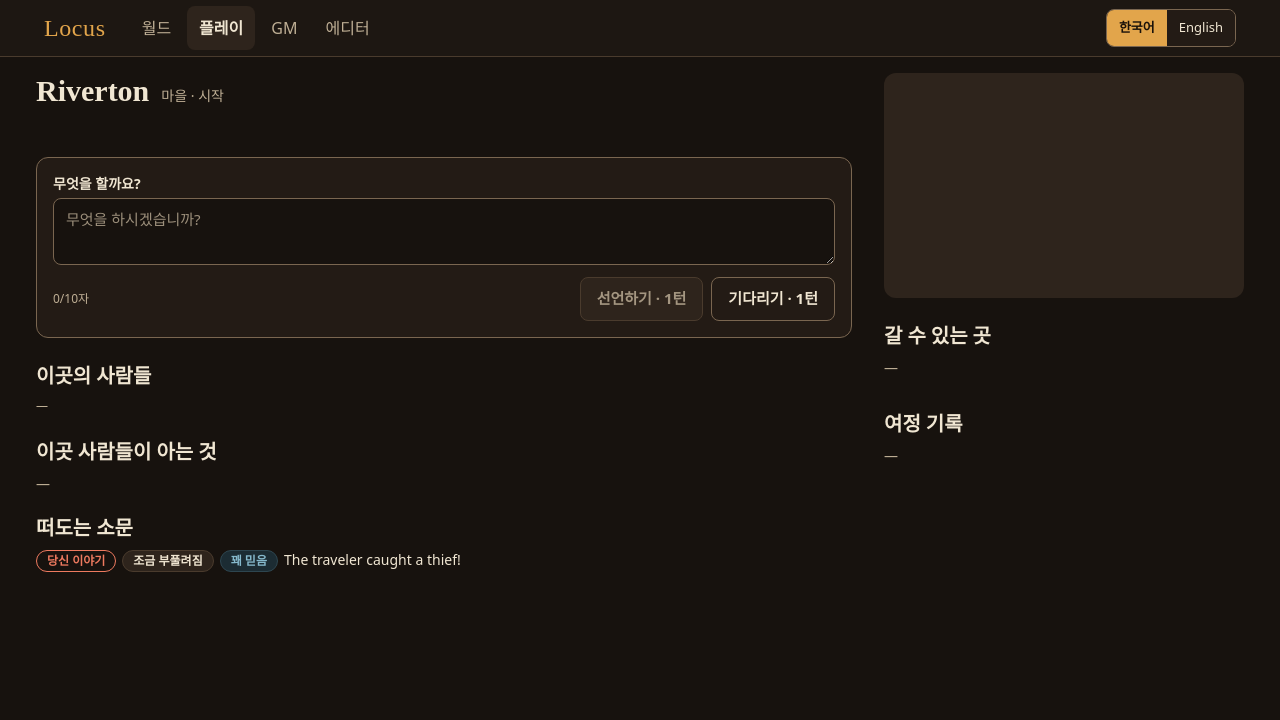
it: PlayPage with declarations › declares with act and shows the narration when the run is done
Type "sing" into the text box with test id "declare-input". click: (444, 231)
box: [53,198,835,265]
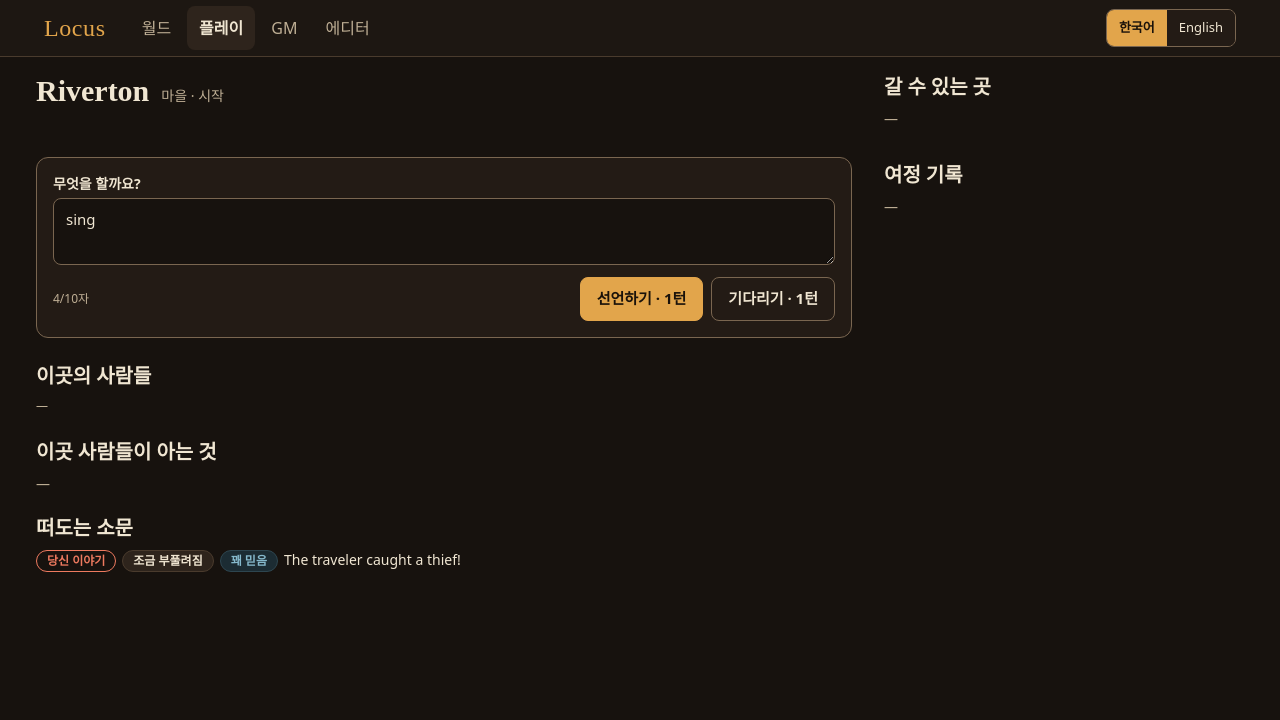
Click the button with test id "declare-btn". click: (642, 299)
box: [580,277,703,321]
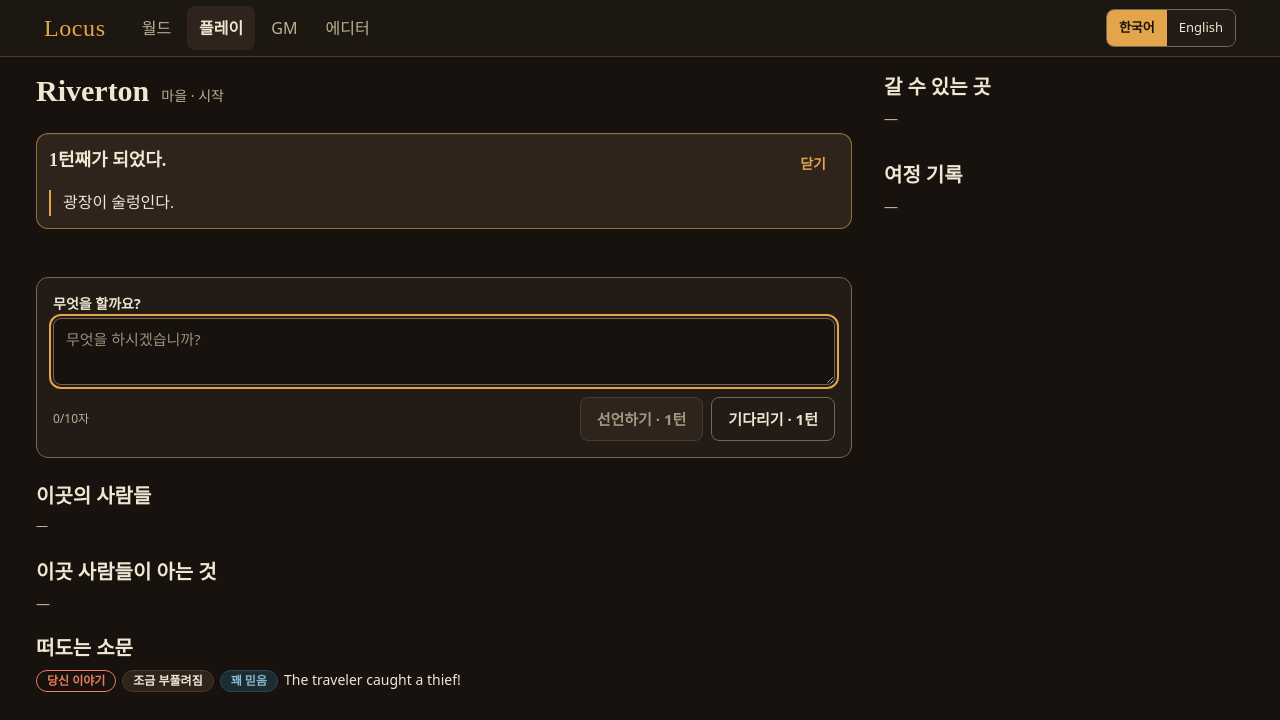
Result: the element with test id "narration-card" reads "광장이 술렁인다." at [63,194,174,211]
